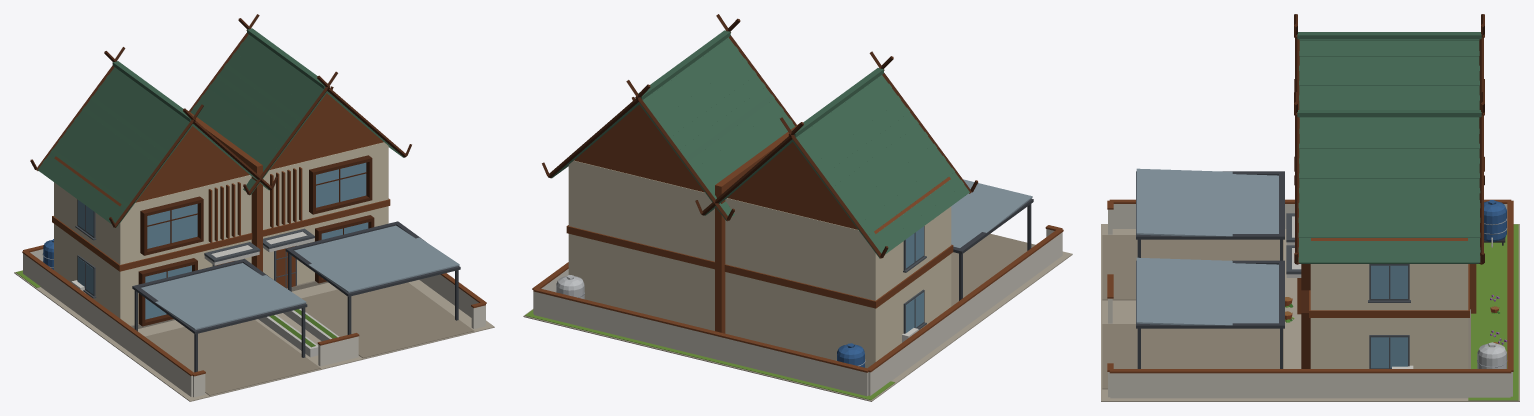
The model's file is home_2.glb.
The picture shows the model from 3 angles, left to right: view 1: azimuth 30°, elevation 25°; view 2: azimuth 150°, elevation 25°; view 3: azimuth 270°, elevation 25°; orthographic projection. The views are drawn at different scales.
Parts seen in each view (by area): view 1: body; view 2: body; view 3: body.
Boxes of the visible parts, x1,y1,x2,y2 form: body: (14, 14, 494, 401); body: (523, 14, 1072, 401); body: (1101, 14, 1519, 401).
Bounding box in the file's own units: 15.9 × 10.93 × 15.9.
